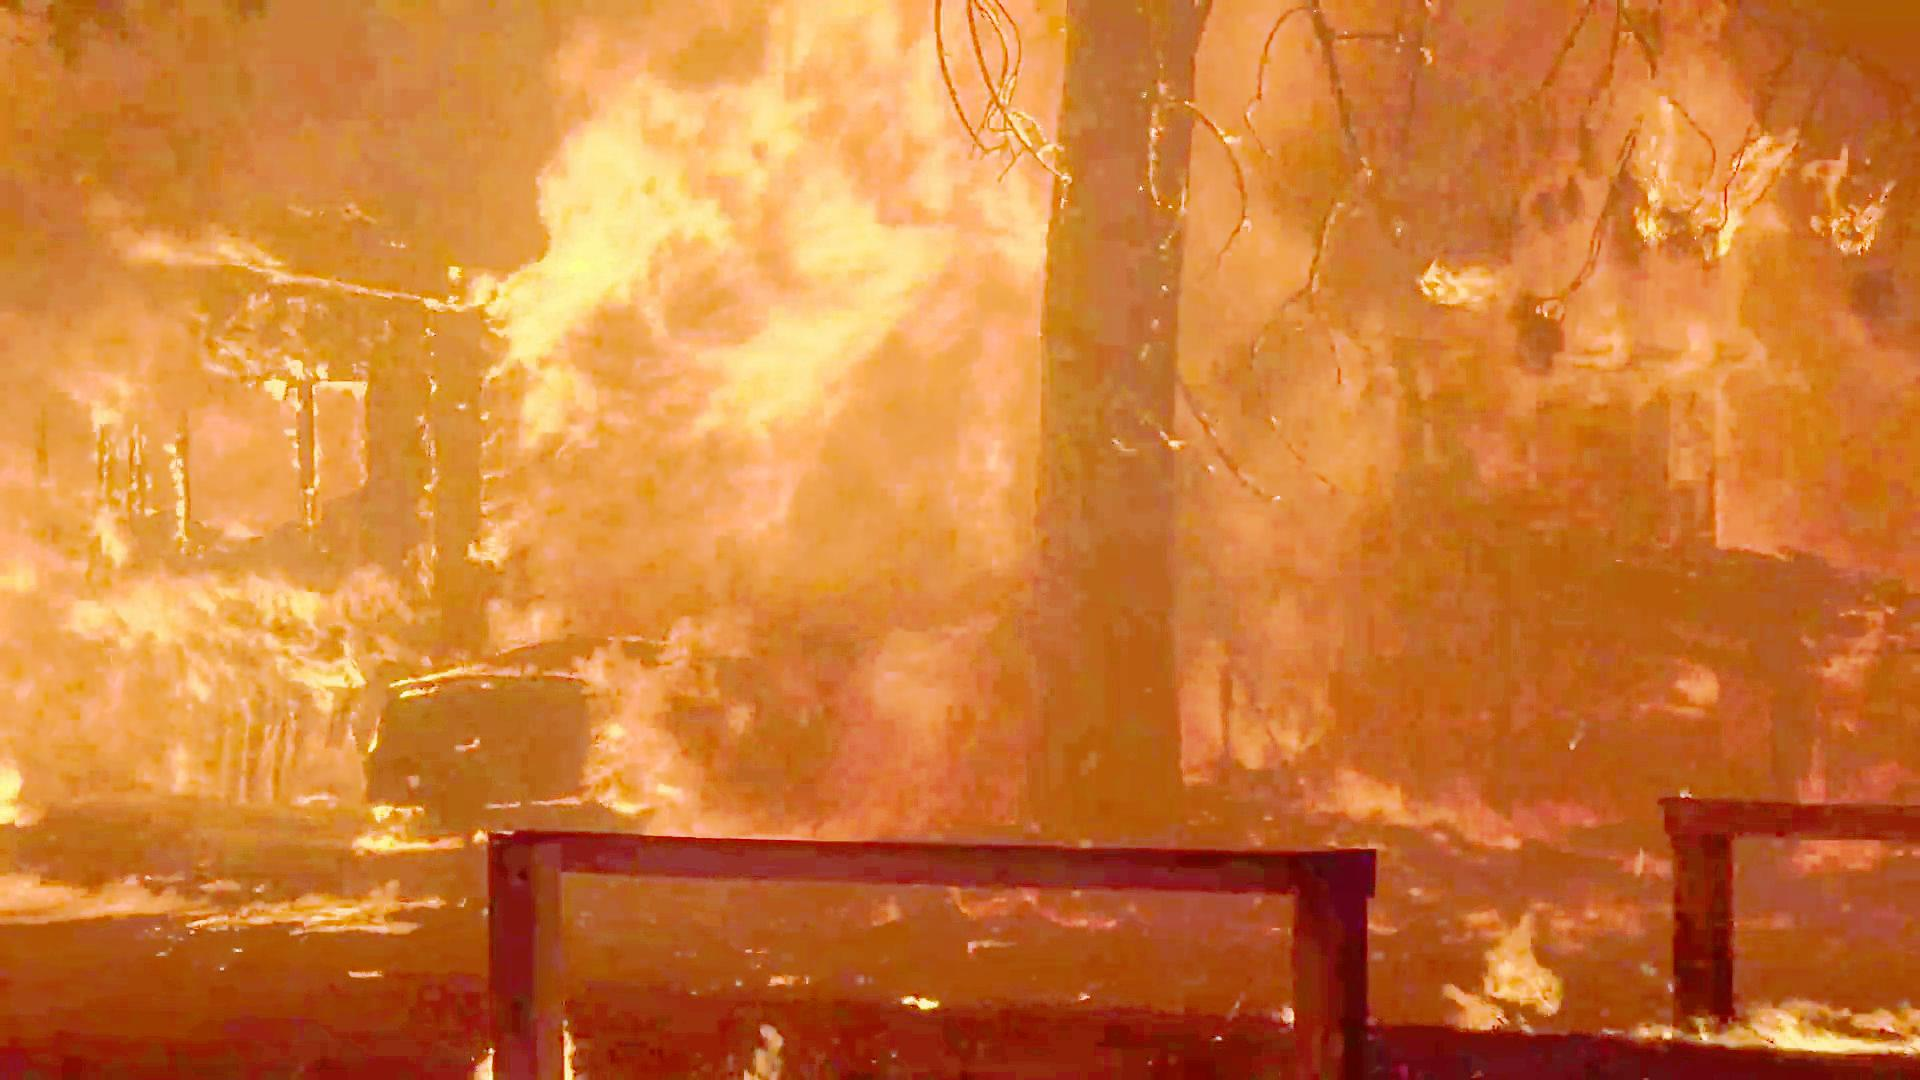fire: (547, 94, 985, 476), (0, 524, 446, 815), (1425, 903, 1920, 1044), (1606, 78, 1807, 231)
